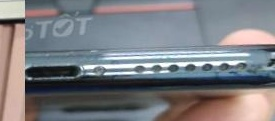scratch: (25, 22, 151, 113)
